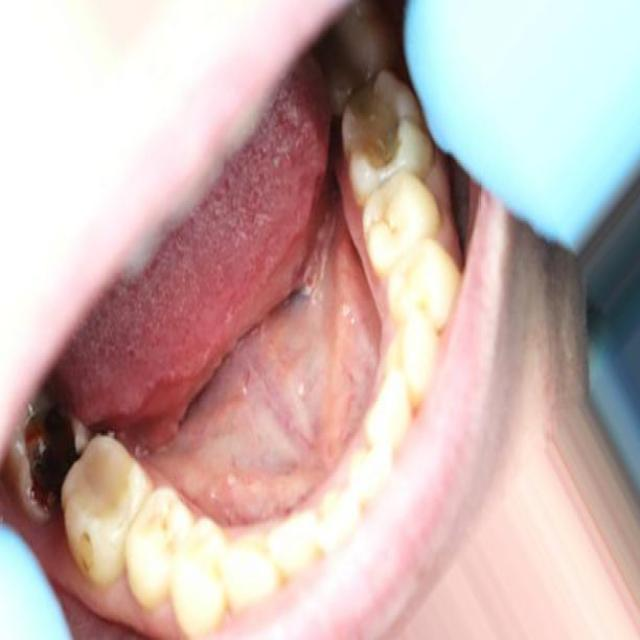caries: (9, 396, 93, 530), (339, 65, 412, 191)
